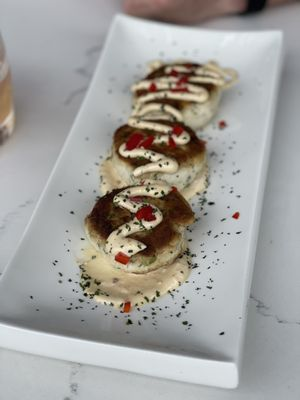pizza: (120, 0, 269, 24)
